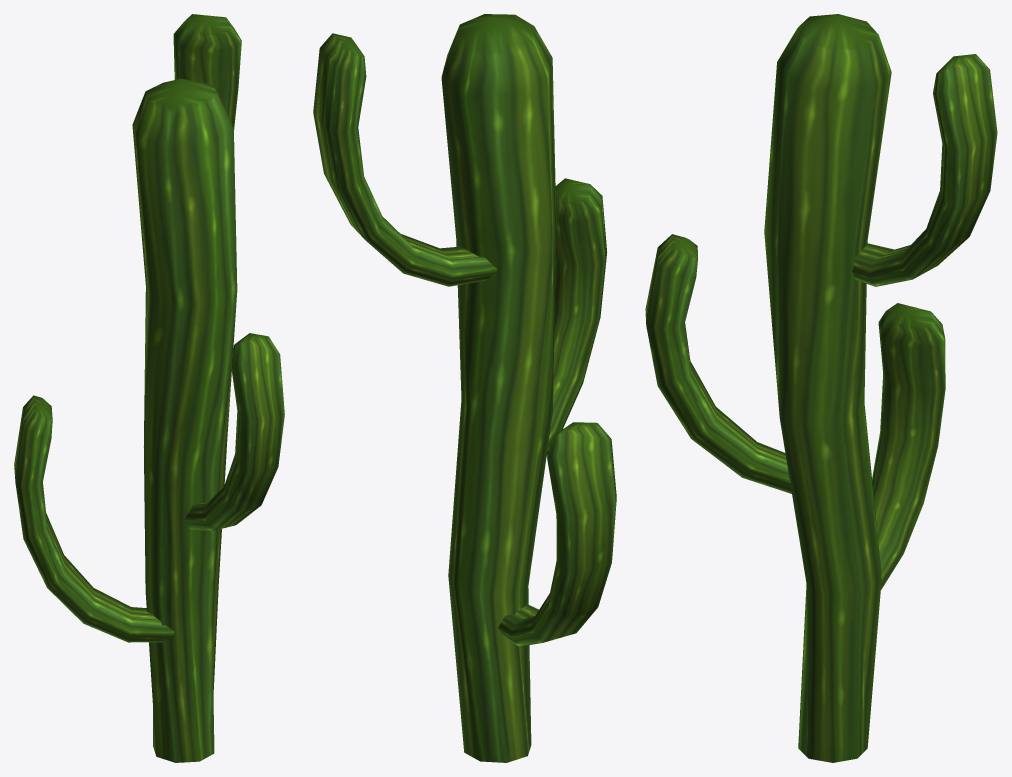
The model's file is Cactus01.FBX.
The picture shows the model from 3 angles, left to right: view 1: azimuth 30°, elevation 25°; view 2: azimuth 150°, elevation 25°; view 3: azimuth 270°, elevation 25°; orthographic projection. The views are drawn at different scales.
Parts seen in each view (by area): view 1: Cactus01; view 2: Cactus01; view 3: Cactus01.
Boxes of the visible parts, x1,y1,x2,y2 form: Cactus01: [14, 14, 284, 762]; Cactus01: [313, 14, 616, 762]; Cactus01: [645, 14, 997, 762].
Size of the model in its own units: 7.28 by 18.95 by 8.24.
